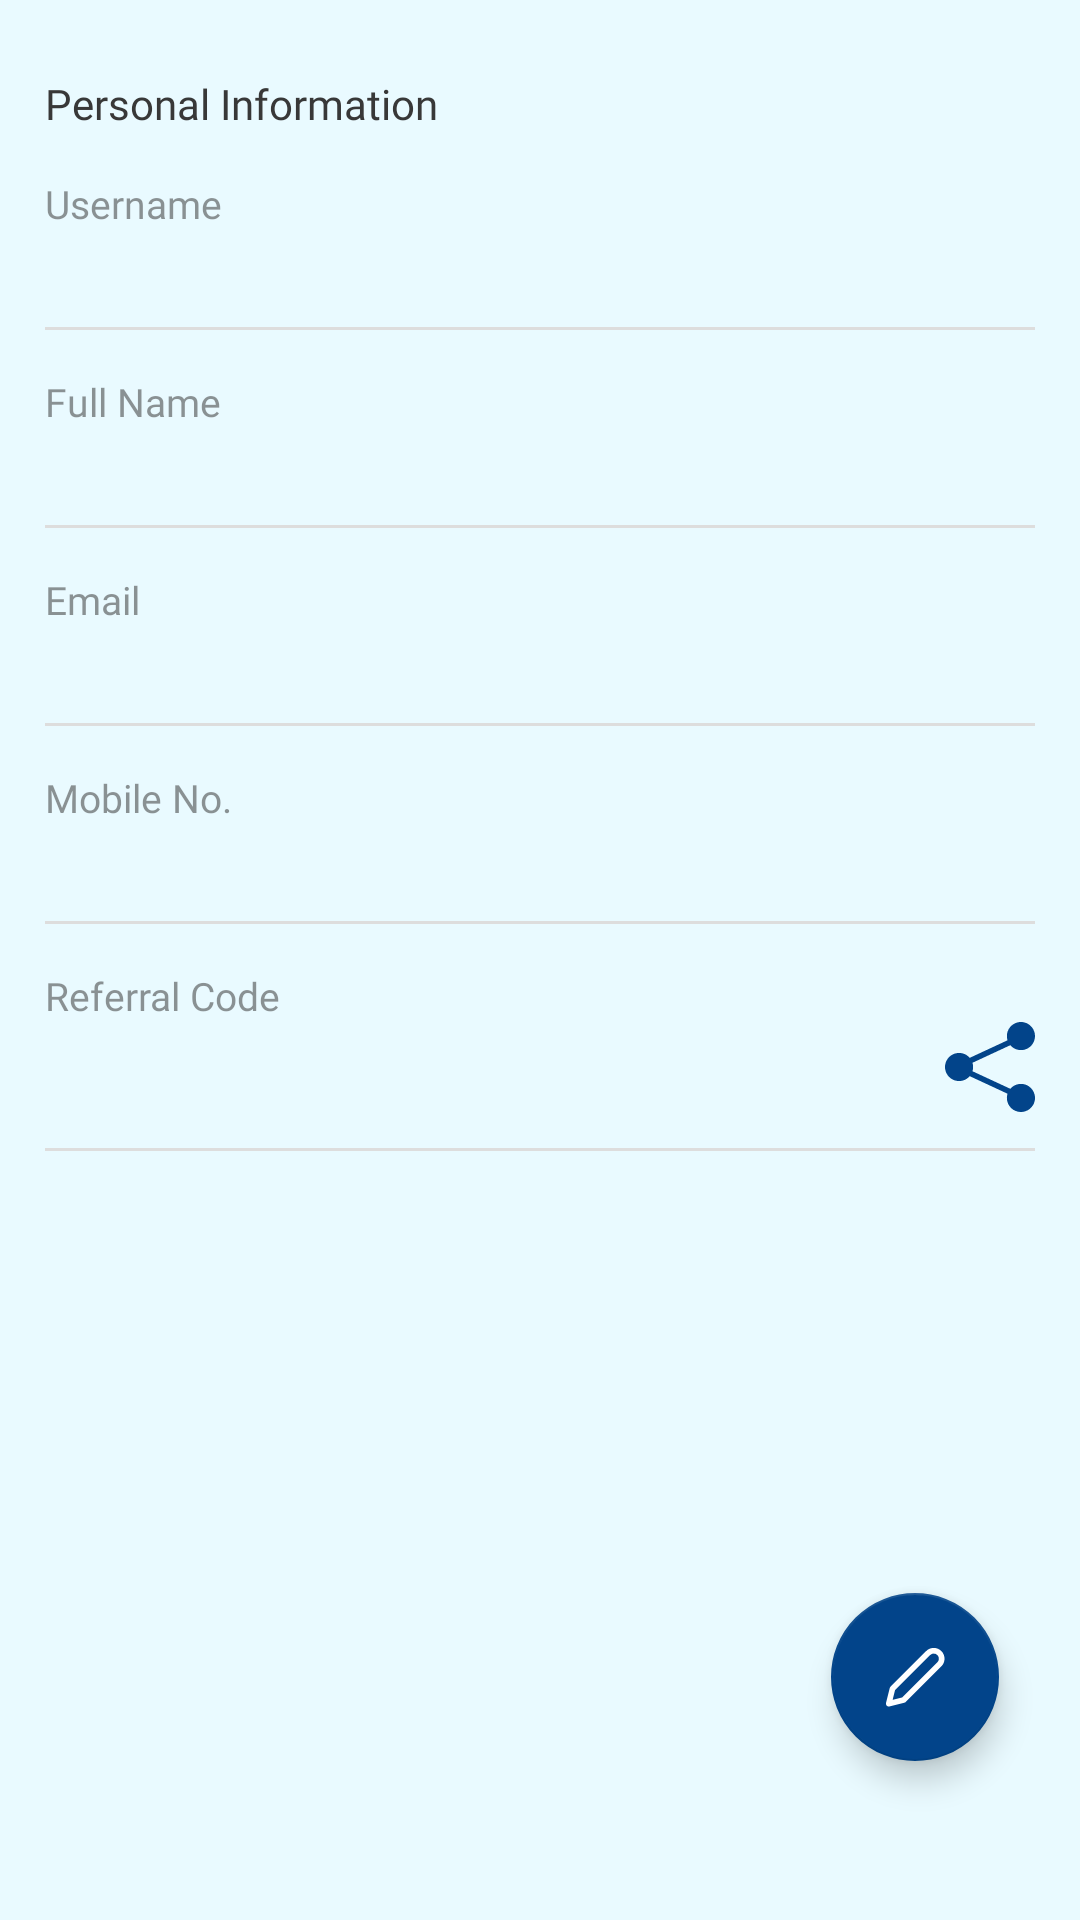

Where icons sit on this 1080w x 1920h app screen, as (x1, y1, x2, y2):
edit: (831, 1593, 1001, 1777)
